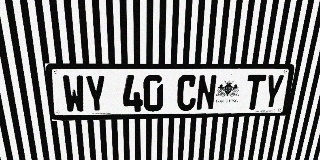0: (143, 75, 164, 112)
4: (122, 75, 143, 112)
C: (176, 75, 198, 111)
N: (196, 75, 217, 111)
T: (243, 74, 266, 110)
W: (62, 75, 86, 113)
Y: (84, 75, 107, 113), (261, 74, 285, 109)
